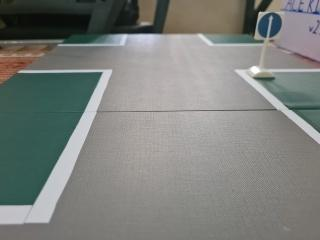straight: (250, 10, 286, 43)
